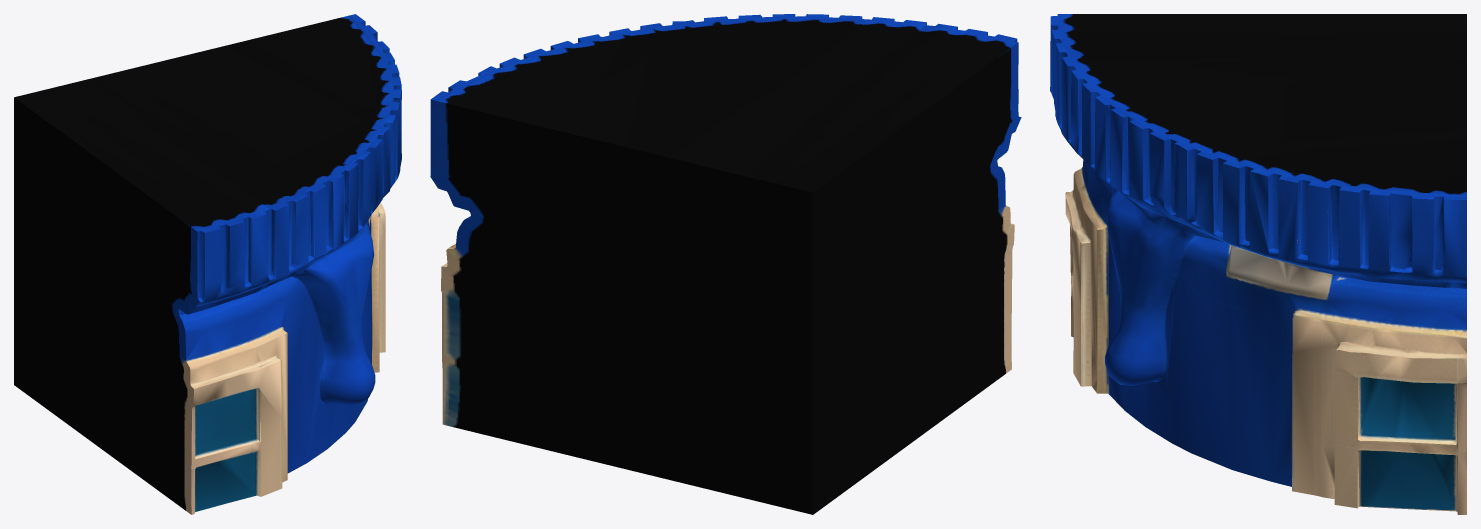
The model's file is 6-upper-walls-front-right.fbx.
3 views of the same model, side by side, from view 1: azimuth 30°, elevation 25°; view 2: azimuth 150°, elevation 25°; view 3: azimuth 270°, elevation 25° (orthographic). The views are drawn at different scales.
Visible parts, largest first — view 1: upper-walls-front-right; view 2: upper-walls-front-right; view 3: upper-walls-front-right.
Part boxes in pixels (left/top/right/bottom): upper-walls-front-right: left=14, top=14, right=401, bottom=514; upper-walls-front-right: left=430, top=14, right=1021, bottom=514; upper-walls-front-right: left=1050, top=14, right=1466, bottom=514.
Size of the model in its own units: 4637 by 3729 by 4391.
Materials: 1 (1 with a texture image).
